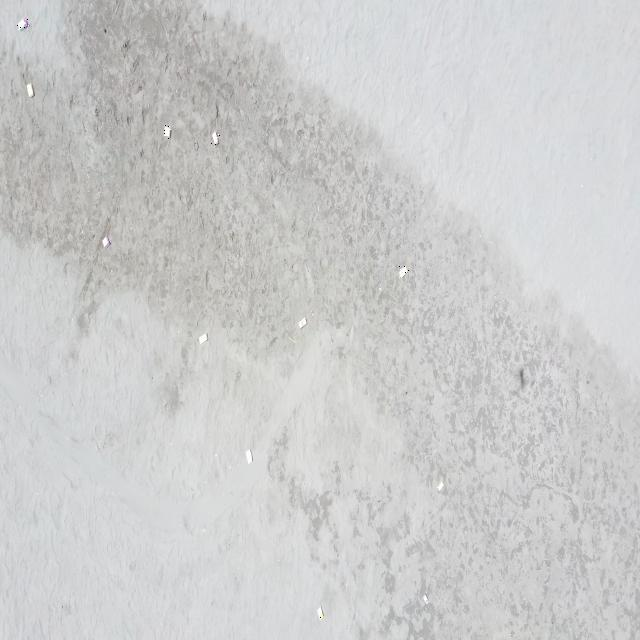Garbage: (16, 16, 27, 30), (244, 448, 252, 463), (316, 606, 324, 619), (101, 236, 110, 247), (397, 267, 407, 276), (298, 316, 306, 327), (199, 332, 207, 343), (212, 129, 218, 143), (163, 124, 169, 138), (436, 480, 443, 491), (27, 83, 32, 96), (289, 335, 296, 343), (423, 593, 427, 604)
